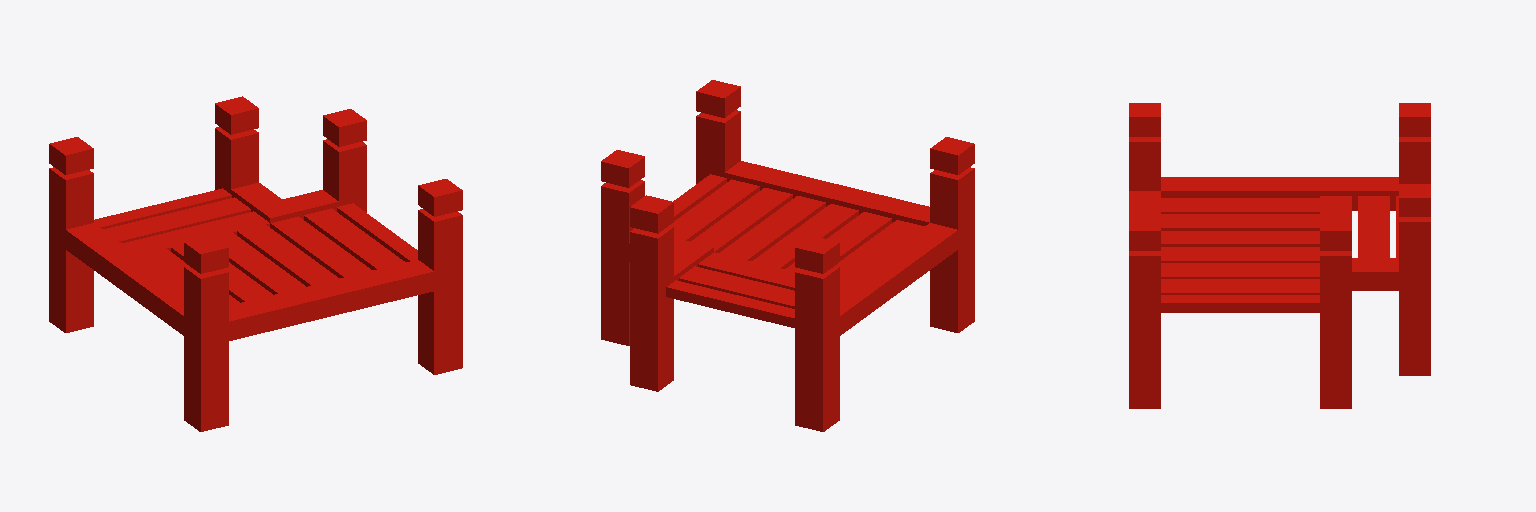
3 renders of one model, left to right at view 1: azimuth 30°, elevation 25°; view 2: azimuth 150°, elevation 25°; view 3: azimuth 270°, elevation 25°, orthographic.
Parts seen in each view (by area): view 1: cube; view 2: cube; view 3: cube.
Boxes of the visible parts, box(x1,y1,x2,y2) form: cube: box(49, 96, 462, 431); cube: box(601, 80, 974, 431); cube: box(1129, 103, 1430, 408).
Size of the model in its own units: 0.8672 by 0.5625 by 0.8672.
1 materials, 1 textured.